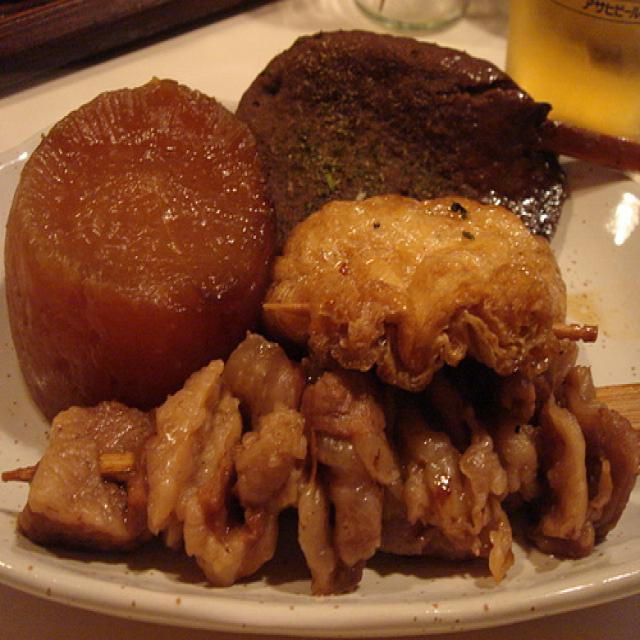汤锅炖物: (0, 29, 640, 597)
